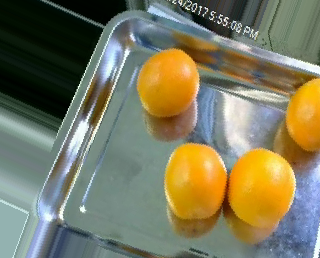Orange: (227, 148, 297, 228), (164, 141, 227, 219), (136, 46, 201, 117)
